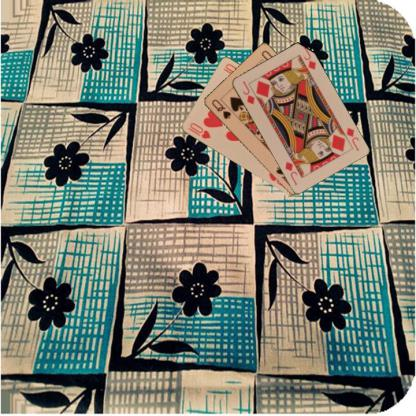10h: (186, 120, 212, 140)
Jd: (343, 125, 360, 152), (240, 78, 255, 106)
Qs: (209, 97, 232, 120)
